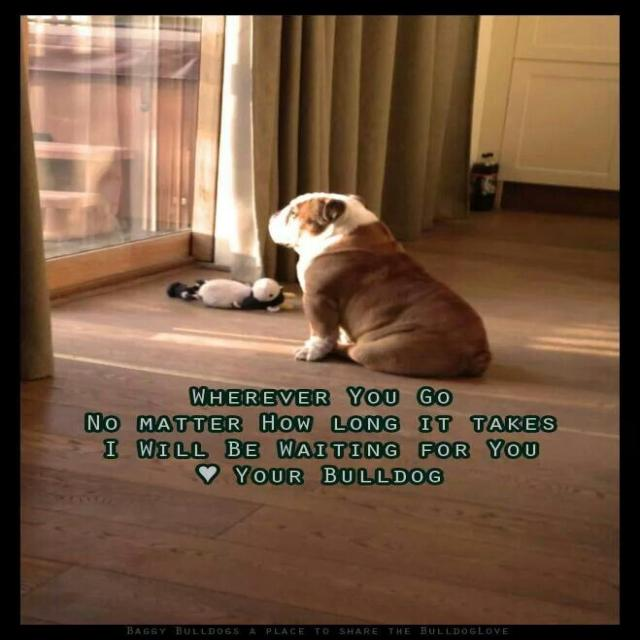dog: (233, 175, 448, 299)
